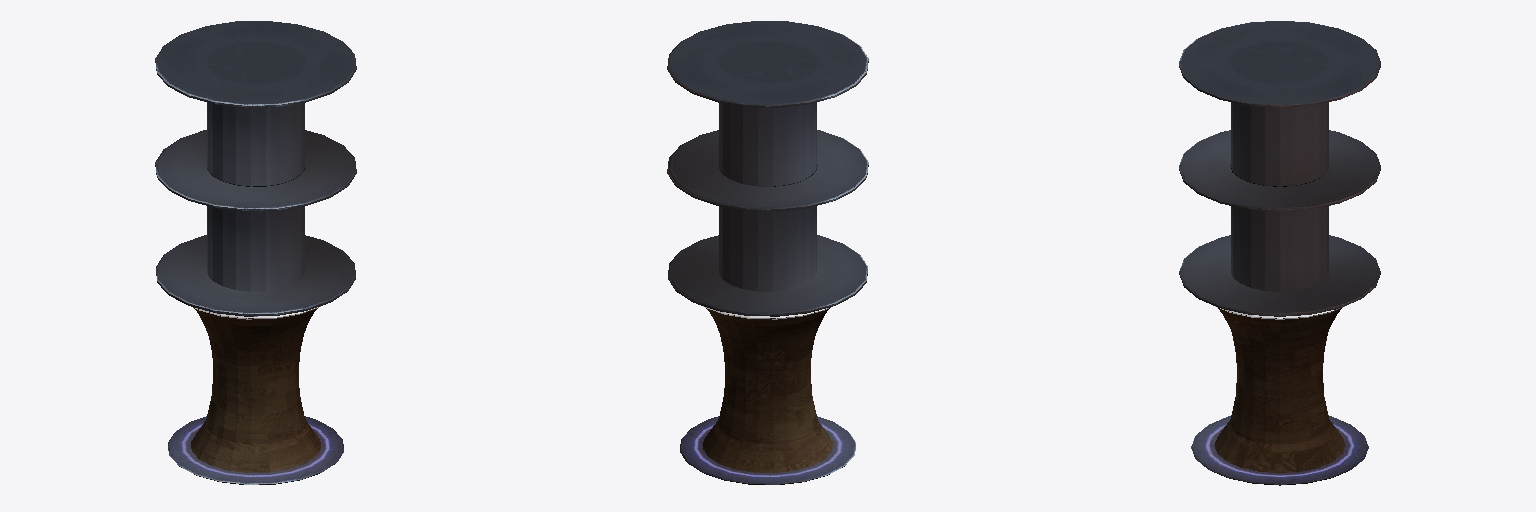
3 renders of one model, left to right at view 1: azimuth 30°, elevation 25°; view 2: azimuth 150°, elevation 25°; view 3: azimuth 270°, elevation 25°, orthographic.
Parts seen in each view (by area): view 1: BarCenterBaked; view 2: BarCenterBaked; view 3: BarCenterBaked.
Part boxes in pixels (x1,y1,x2,y2): BarCenterBaked: (155, 21, 356, 484); BarCenterBaked: (667, 21, 868, 484); BarCenterBaked: (1179, 21, 1380, 485).
Size of the model in its own units: 1.02 by 2.14 by 1.02.
1 materials, 1 textured.